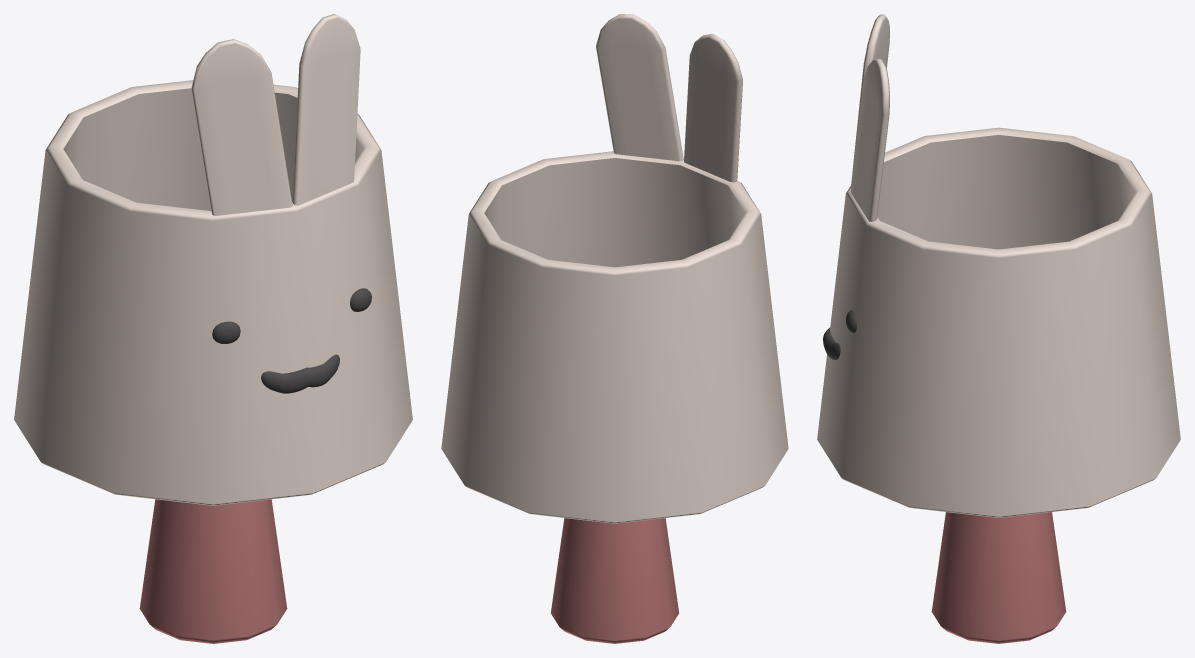
Rendered from Lamp_10.glb.
3 renders of one model, left to right at view 1: azimuth 30°, elevation 25°; view 2: azimuth 150°, elevation 25°; view 3: azimuth 270°, elevation 25°, orthographic. The views are drawn at different scales.
Visible parts, largest first — view 1: Lamp_10; view 2: Lamp_10; view 3: Lamp_10.
Boxes of the visible parts, x1,y1,x2,y2 form: Lamp_10: (14,14,412,643); Lamp_10: (441,14,788,643); Lamp_10: (817,14,1180,643).
Size of the model in its own units: 0.4629 by 0.8201 by 0.4629.
Materials: 2 (1 with a texture image).
